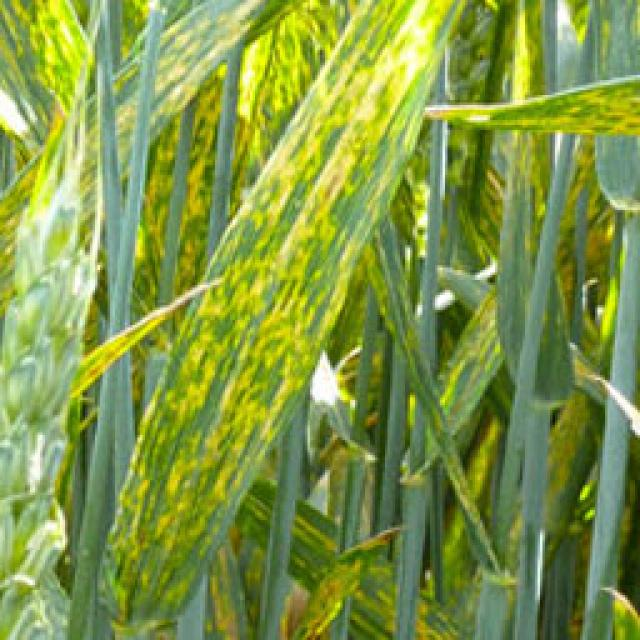wheat-yellowrust: (97, 1, 471, 625), (149, 0, 300, 144), (428, 74, 640, 134)
